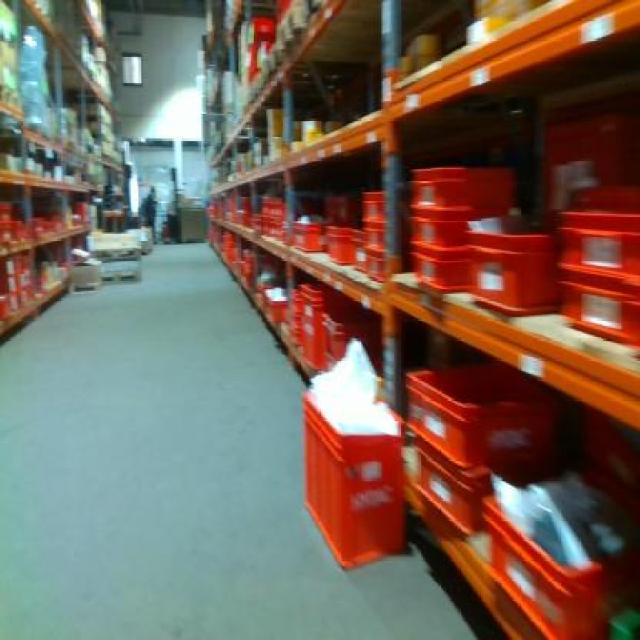pallet: (97, 262, 139, 290)
